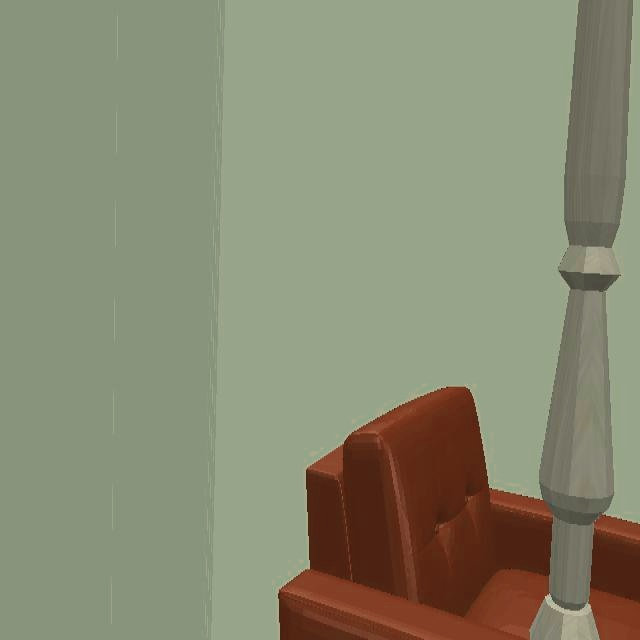sofa: (280, 387, 553, 640), (590, 516, 640, 640)
